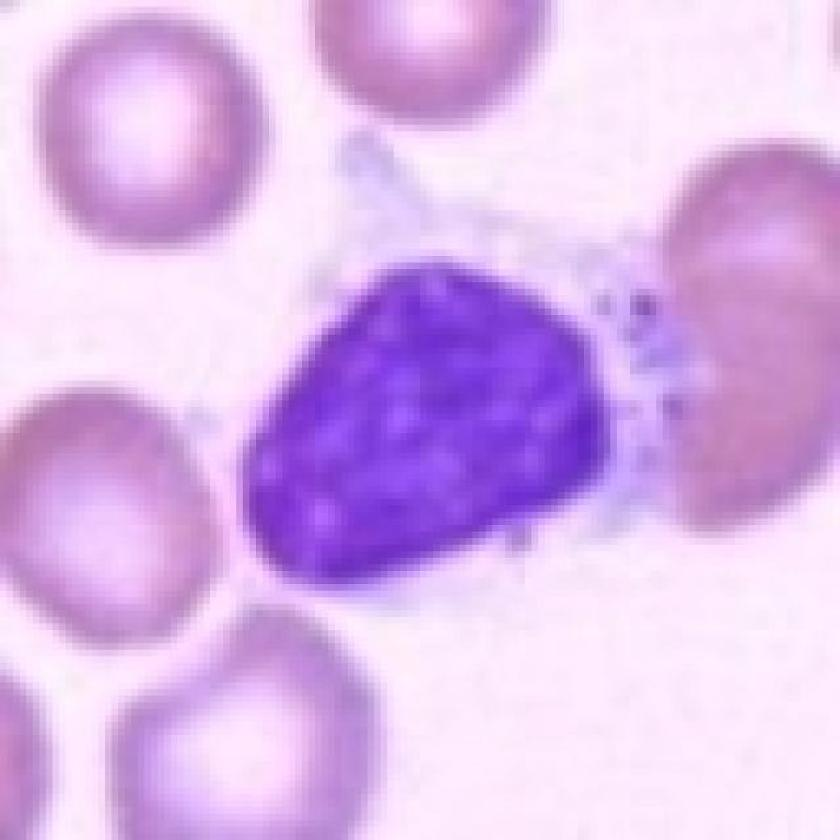lymphocyte: (181, 132, 715, 630)
